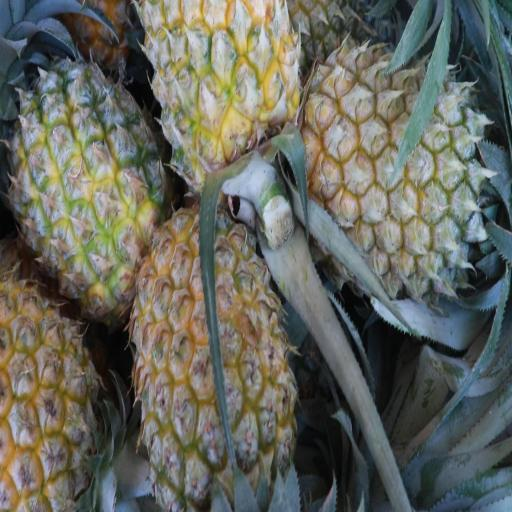------------------------------: (138, 214, 289, 512)
Pineapple - v8 v1: (14, 53, 160, 294), (143, 0, 299, 188), (0, 292, 104, 512)
